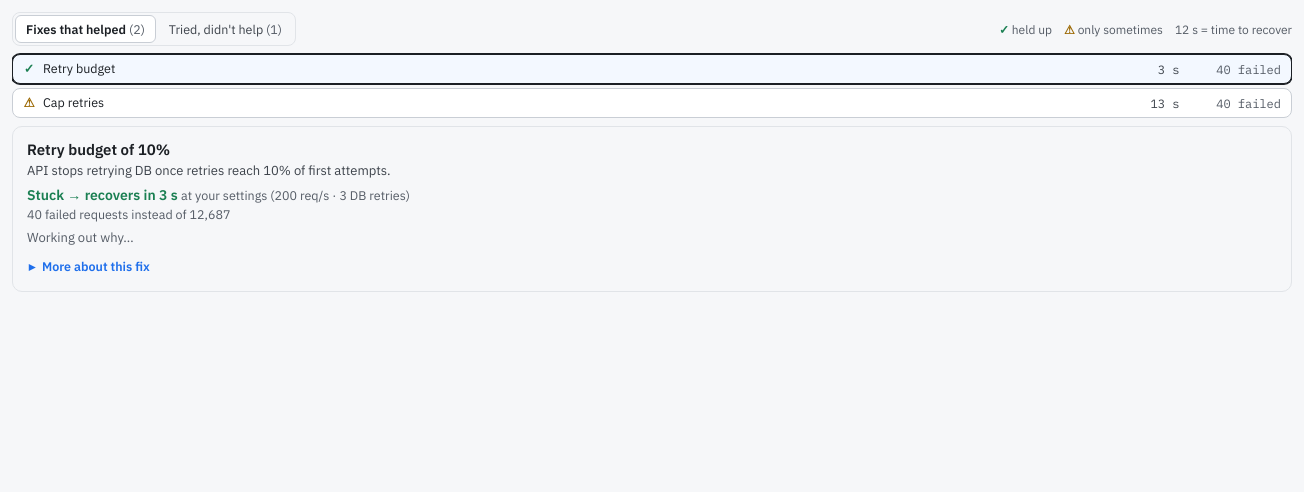
Test case: FixTabs › explains its marks and numbers on screen, and why the first fix is first
Expected: the element with id "fix-tabs-key-helped" reads "✓ held up ⚠ only sometimes 12 s = time to recover", [999,22,1292,36]
Click the button "▸ More about this fix" at [88, 266], box [27,254,150,280]
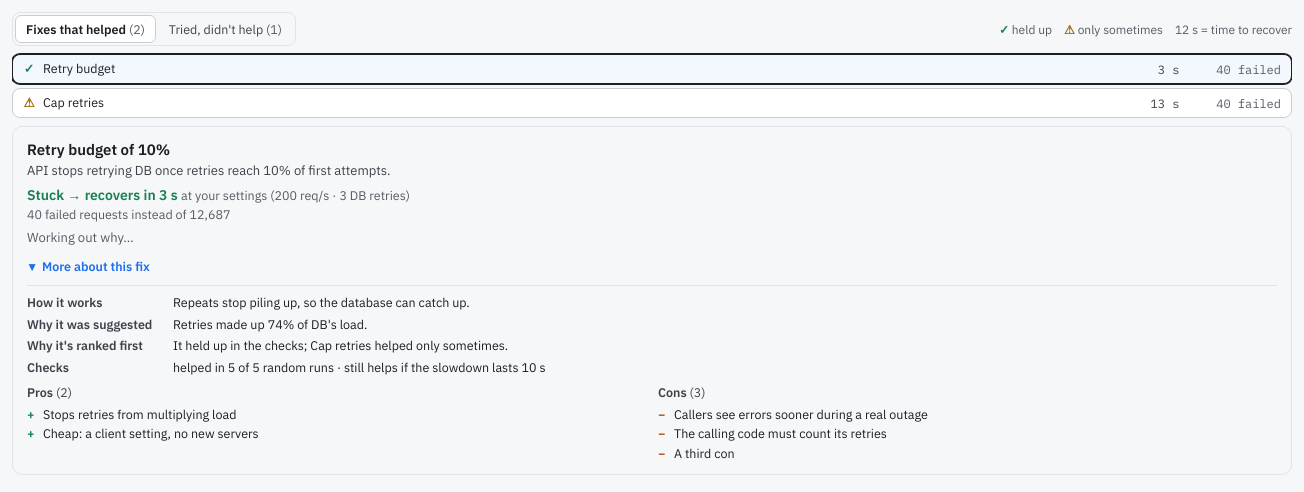
Expected: the text "It held up in the checks; Cap retries helped only sometimes." is shown, [173,338,508,354]
Click the button "Tried, didn't help (1)" at [226, 29], box [158,15,293,43]
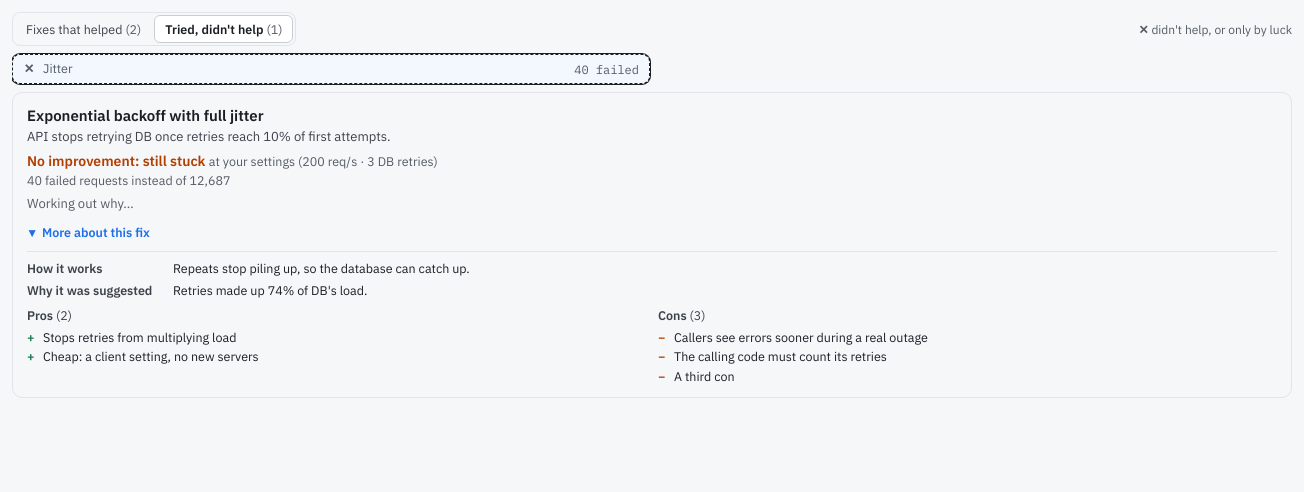
Expected: the element with id "fix-tabs-key-not" reads "✕ didn't help, or only by luck", [1138,22,1292,36]
